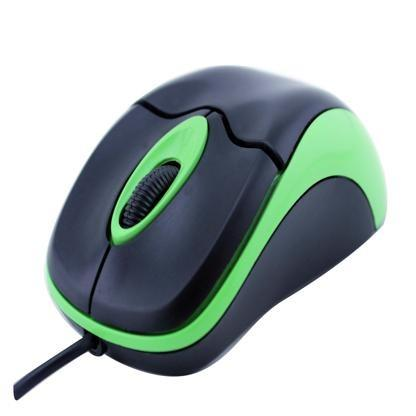not trash: (45, 61, 386, 378)
